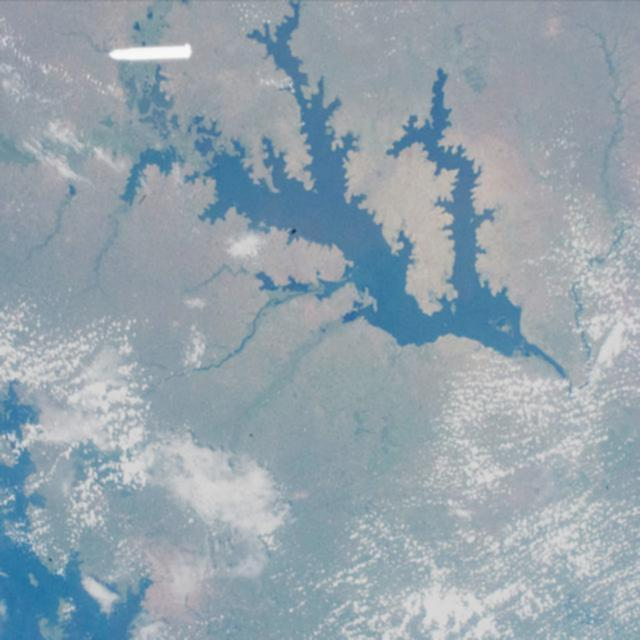rocket: (92, 42, 197, 69)
